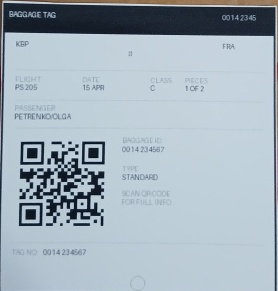LPN_bottom: (40, 246, 89, 259)
LPN_right: (120, 143, 166, 155)
